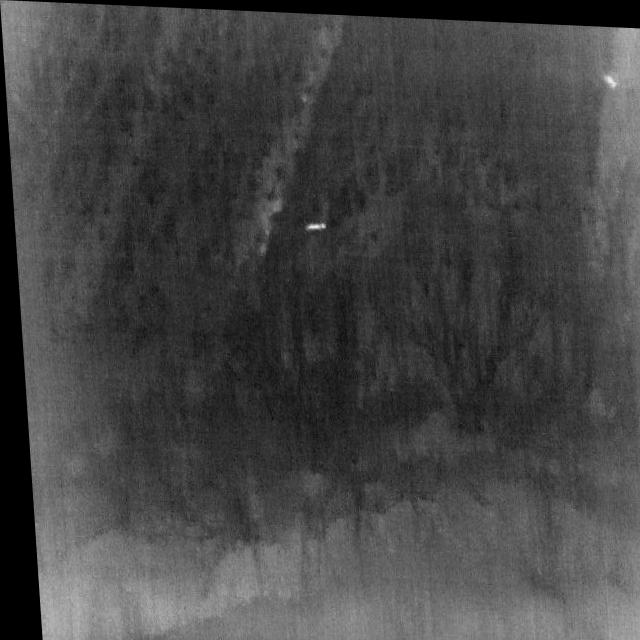deer: (300, 219, 324, 230), (602, 69, 617, 83)
